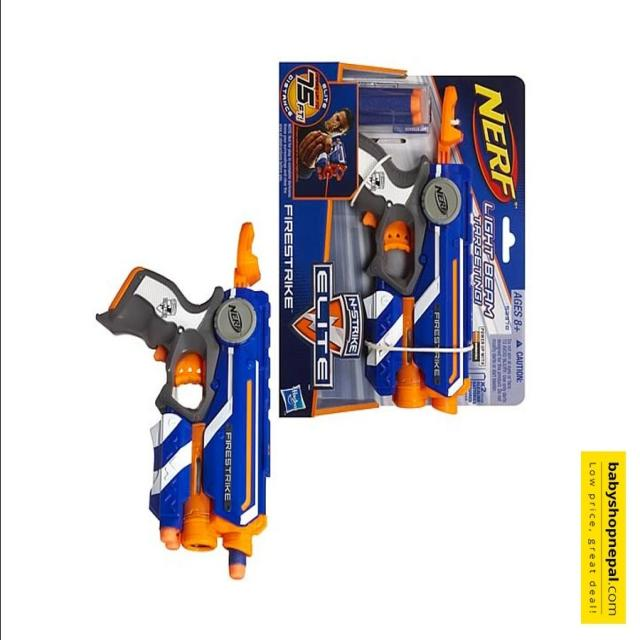Nerf gun: (94, 217, 278, 582), (339, 87, 480, 423)
